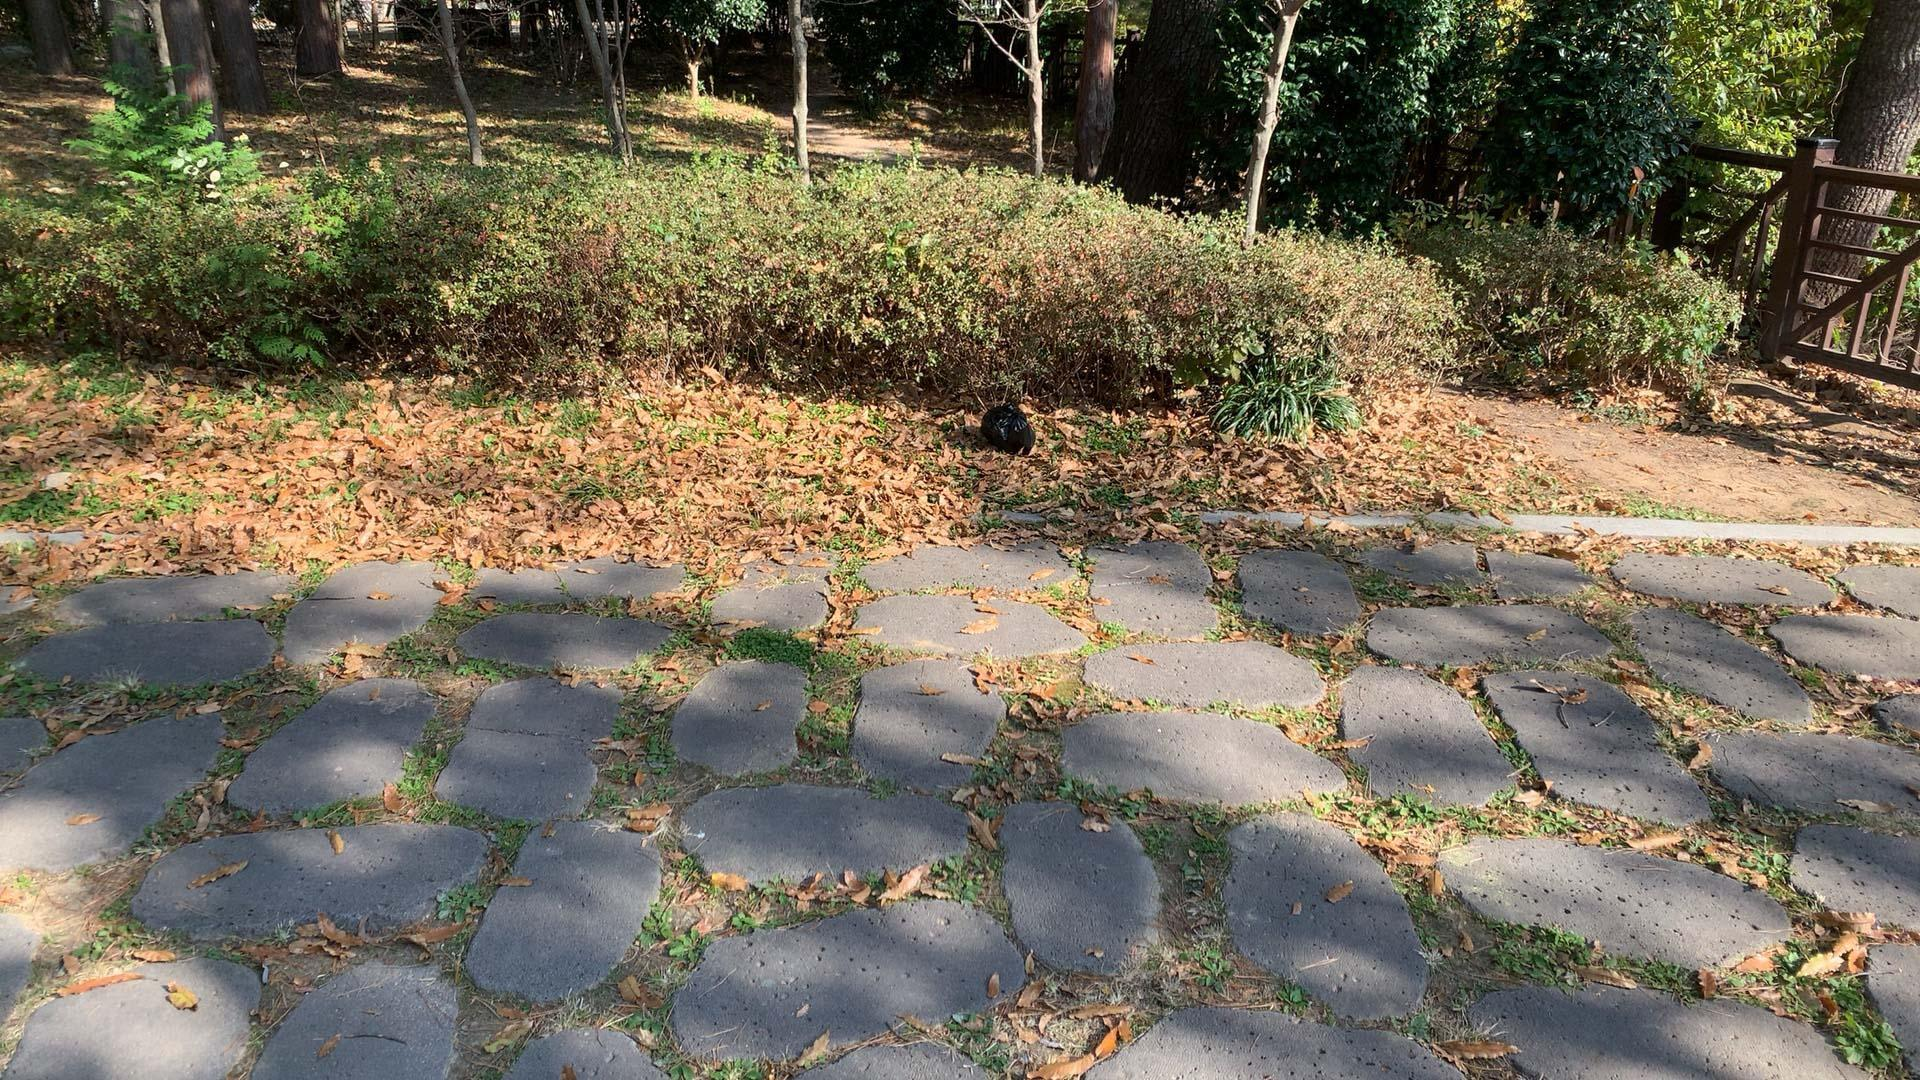black_bag: (978, 398, 1039, 458)
